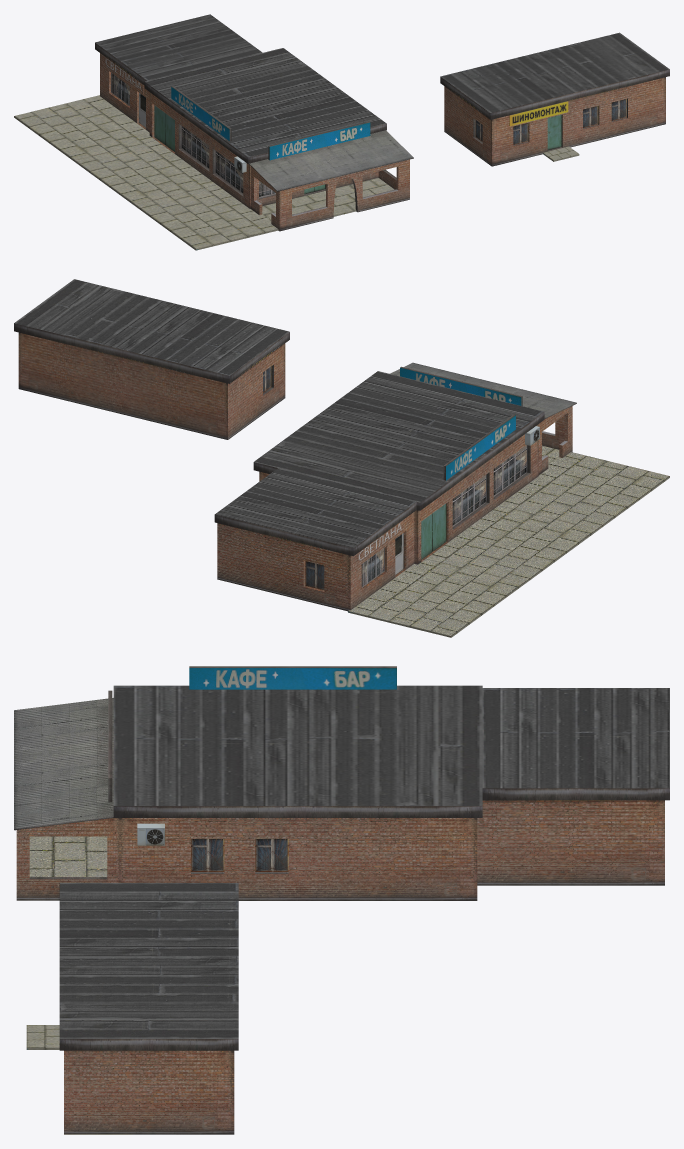
Rendered from r254_kormilovka_kafe.FBX.
3 views of the same model, one above another, from view 1: azimuth 30°, elevation 25°; view 2: azimuth 150°, elevation 25°; view 3: azimuth 270°, elevation 25° (orthographic). The views are drawn at different scales.
Visible parts, largest first — view 1: r254_kormilovka_kafe, r254_kormilovka_kafe2; view 2: r254_kormilovka_kafe, r254_kormilovka_kafe2; view 3: r254_kormilovka_kafe, r254_kormilovka_kafe2.
Boxes of the visible parts, left/top/right/bottom form: r254_kormilovka_kafe: left=14, top=14, right=413, bottom=250; r254_kormilovka_kafe2: left=440, top=32, right=669, bottom=166; r254_kormilovka_kafe: left=214, top=362, right=669, bottom=637; r254_kormilovka_kafe2: left=14, top=279, right=289, bottom=439; r254_kormilovka_kafe: left=14, top=666, right=669, bottom=900; r254_kormilovka_kafe2: left=26, top=883, right=238, bottom=1134.
Bounding box in the file's own units: 31.51 × 20.74 × 4.16.
